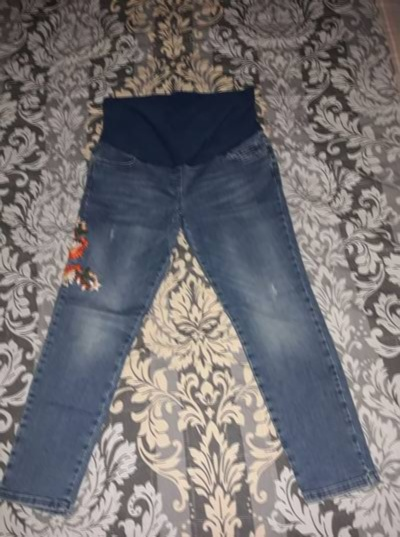Pants: (13, 66, 363, 514)
